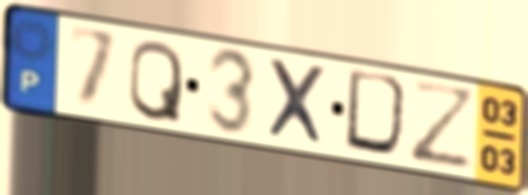3: (205, 43, 259, 143)
7: (66, 22, 120, 114)
D: (341, 65, 416, 163)
Q: (125, 37, 185, 126)
X: (264, 55, 330, 152)
Z: (408, 76, 481, 172)
